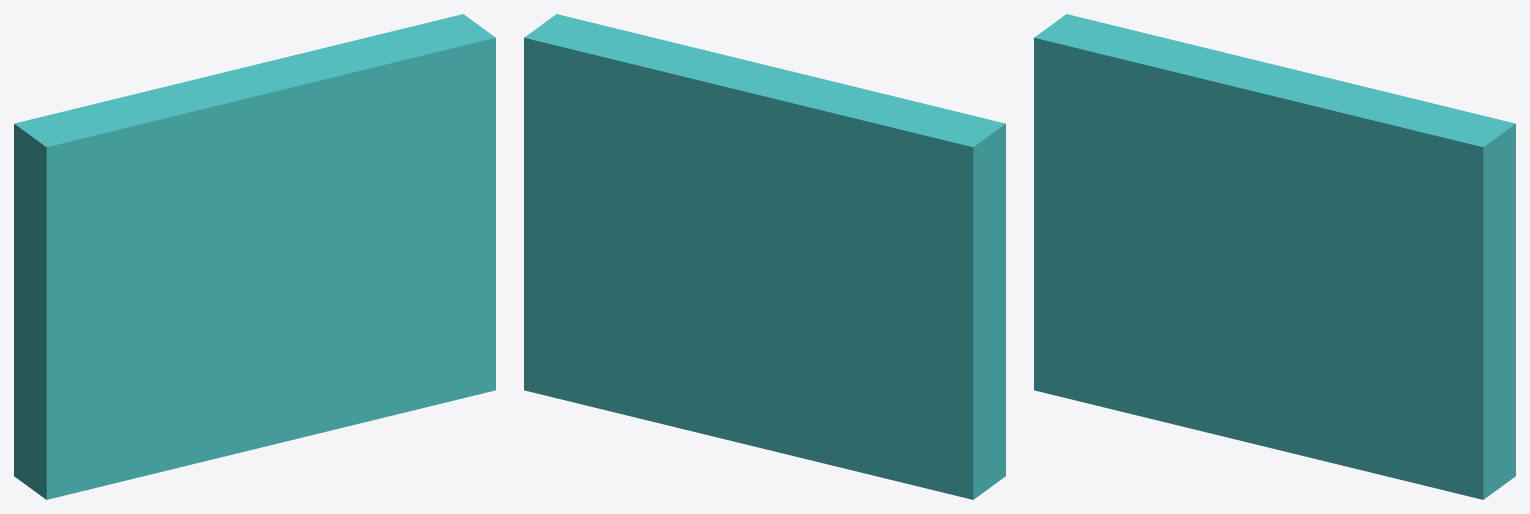
File: Tv00-Screen.gltf
The picture shows the model from 3 angles, left to right: view 1: azimuth 30°, elevation 25°; view 2: azimuth 150°, elevation 25°; view 3: azimuth 330°, elevation 25°; orthographic projection.
Size of the model in its own units: 8 by 6 by 1.
